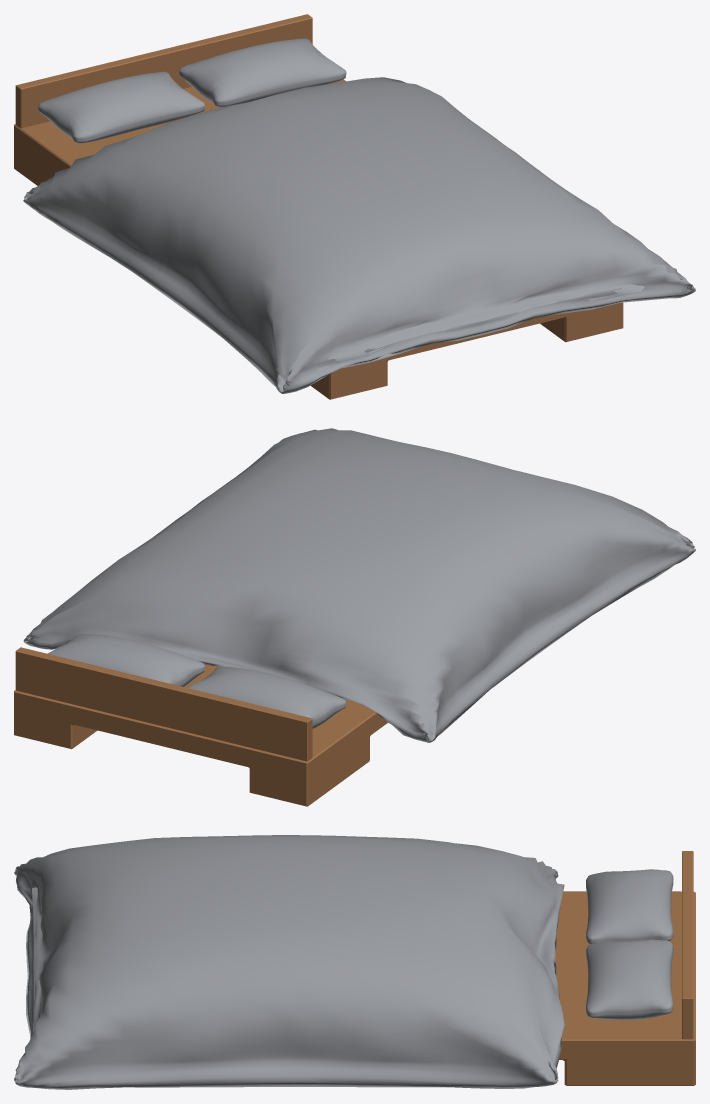
File: bed.fbx
3 renders of one model, top to bottom at view 1: azimuth 30°, elevation 25°; view 2: azimuth 150°, elevation 25°; view 3: azimuth 270°, elevation 25°, orthographic. The views are drawn at different scales.
Parts seen in each view (by area): view 1: bedmerged; view 2: bedmerged; view 3: bedmerged.
Boxes of the visible parts, bbox=[...] form: bedmerged: bbox=[14, 14, 695, 399]; bedmerged: bbox=[14, 428, 695, 806]; bedmerged: bbox=[14, 835, 695, 1089].
Size of the model in its own units: 282 by 81.78 by 387.
